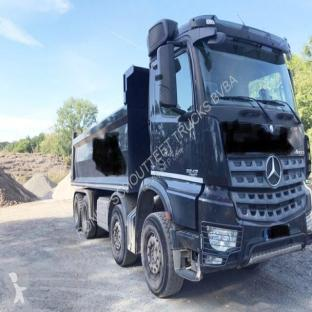Vehicle: (64, 7, 311, 305)
